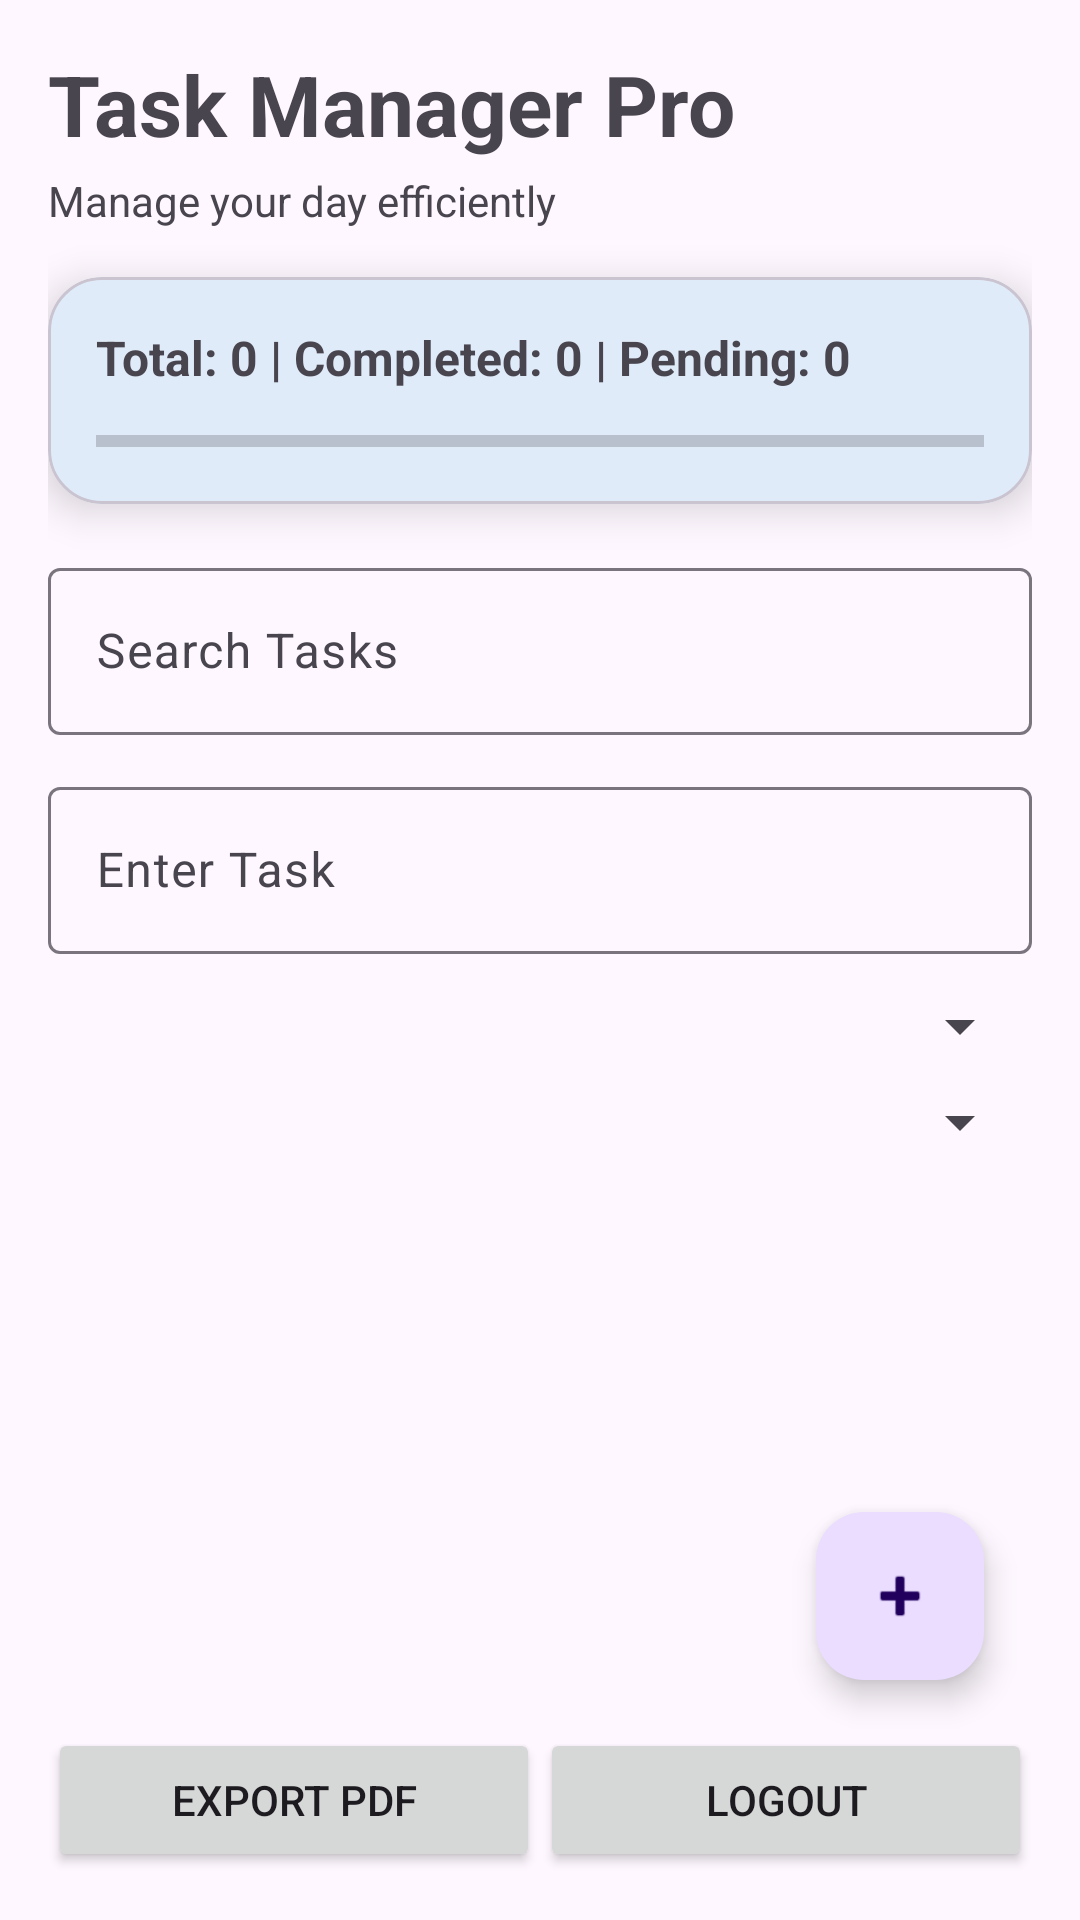

Named icons in this screenshot (1080 x 1920) and their centers, (x=x, y=y):
Add: (x=900, y=1596)
